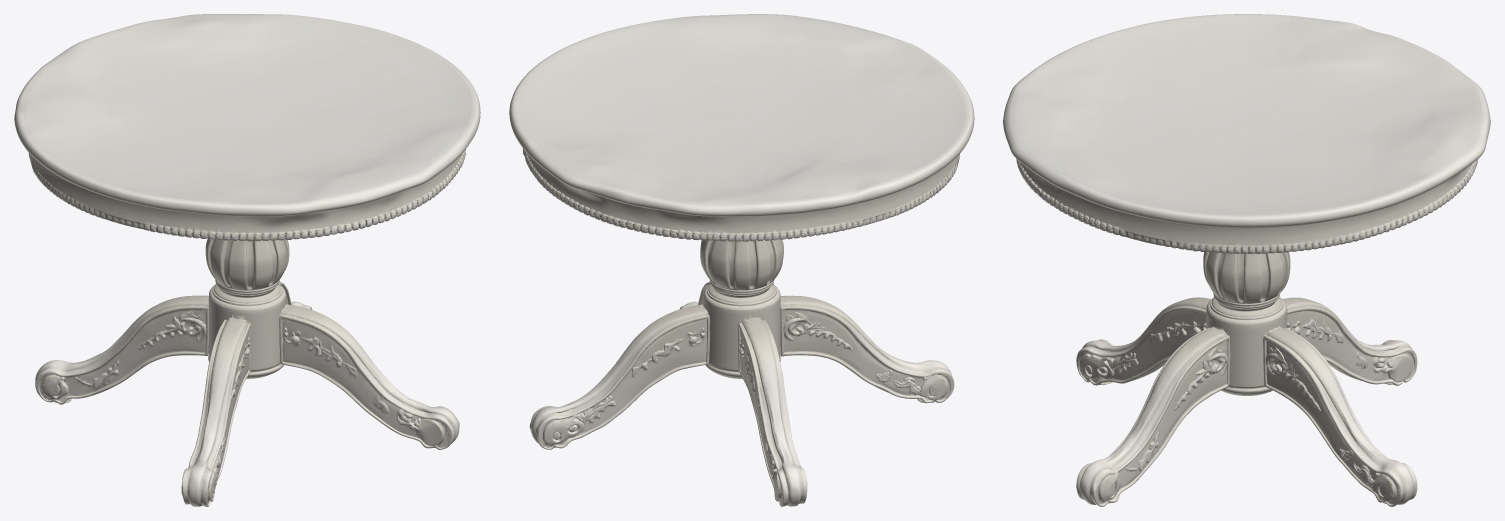
Rendered from Caesar.glb.
The picture shows the model from 3 angles, left to right: view 1: azimuth 30°, elevation 25°; view 2: azimuth 150°, elevation 25°; view 3: azimuth 270°, elevation 25°; orthographic projection. The views are drawn at different scales.
Parts seen in each view (by area): view 1: tripo_node_deebf82e-739b-4777-a5a7-8011f02e0db4; view 2: tripo_node_deebf82e-739b-4777-a5a7-8011f02e0db4; view 3: tripo_node_deebf82e-739b-4777-a5a7-8011f02e0db4.
Boxes of the visible parts, bbox=[...] form: tripo_node_deebf82e-739b-4777-a5a7-8011f02e0db4: bbox=[14, 14, 480, 506]; tripo_node_deebf82e-739b-4777-a5a7-8011f02e0db4: bbox=[509, 14, 974, 506]; tripo_node_deebf82e-739b-4777-a5a7-8011f02e0db4: bbox=[1003, 14, 1490, 506].
Size of the model in its own units: 0.9804 by 0.7268 by 0.9781.
1 material, 1 textured.
